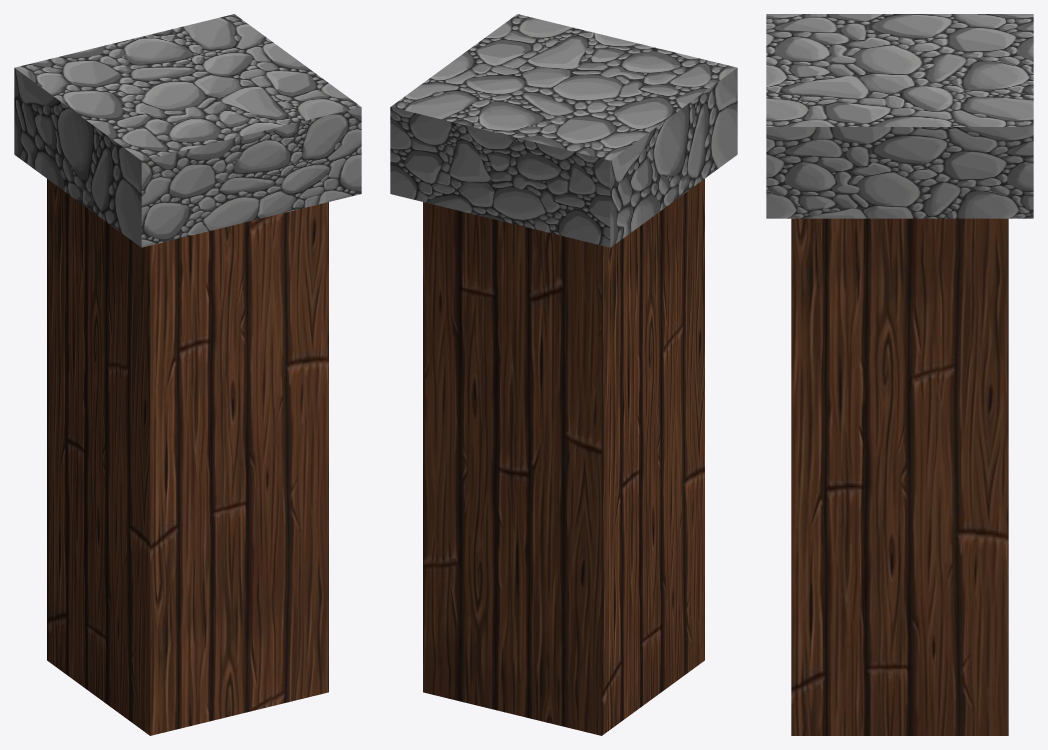
The model's file is Podium2.fbx.
3 renders of one model, left to right at view 1: azimuth 30°, elevation 25°; view 2: azimuth 150°, elevation 25°; view 3: azimuth 270°, elevation 25°, orthographic. The views are drawn at different scales.
Parts seen in each view (by area): view 1: pCube1, pCube2; view 2: pCube1, pCube2; view 3: pCube1, pCube2.
Part boxes in pixels (box(x1,y1,x2,y2)): pCube1: box(47, 179, 328, 735); pCube2: box(14, 14, 361, 247); pCube1: box(423, 179, 704, 735); pCube2: box(390, 14, 737, 247); pCube1: box(791, 218, 1008, 735); pCube2: box(766, 14, 1033, 218).
Bounding box in the file's own units: 2.94 × 7.51 × 2.94.
Materials: 2 (2 with a texture image).
